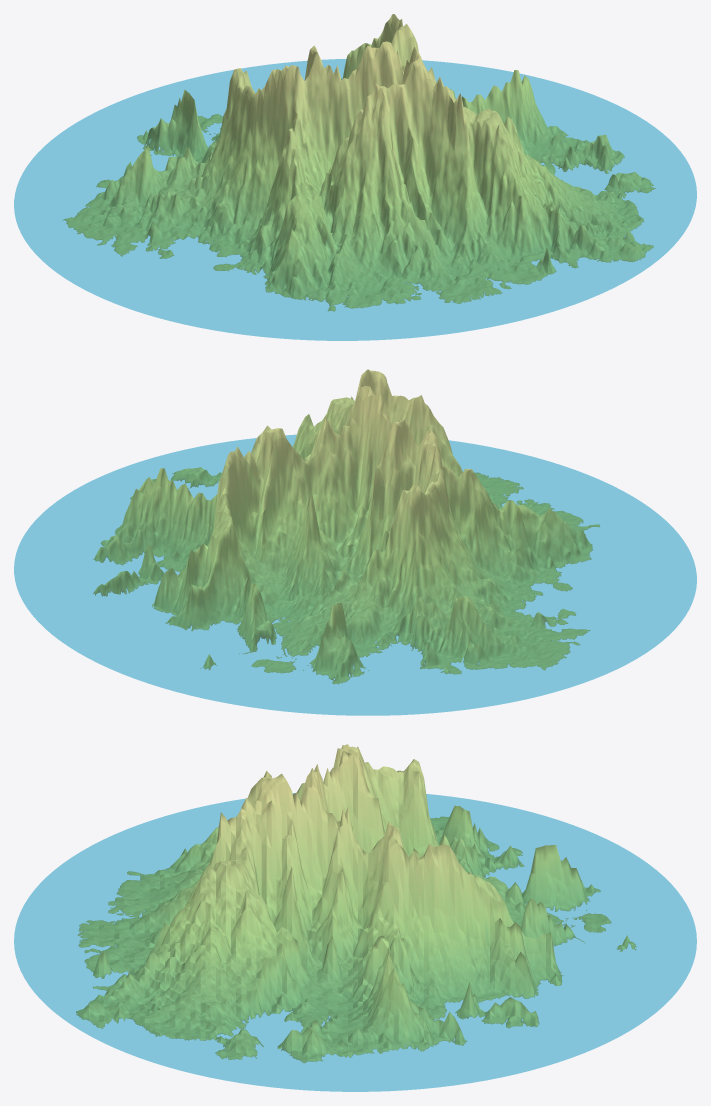
File: FSM-terrain.glb
3 renders of one model, top to bottom at view 1: azimuth 30°, elevation 25°; view 2: azimuth 150°, elevation 25°; view 3: azimuth 270°, elevation 25°, orthographic. The views are drawn at different scales.
Parts seen in each view (by area): view 1: Relevo com hidrografia; view 2: Relevo com hidrografia; view 3: Relevo com hidrografia.
Boxes of the visible parts, x1,y1,x2,y2 form: Relevo com hidrografia: (14, 14, 696, 340); Relevo com hidrografia: (14, 369, 696, 715); Relevo com hidrografia: (14, 744, 696, 1091).
Bounding box in the file's own units: 1.96 × 0.544 × 1.88.
2 materials, 1 textured.
